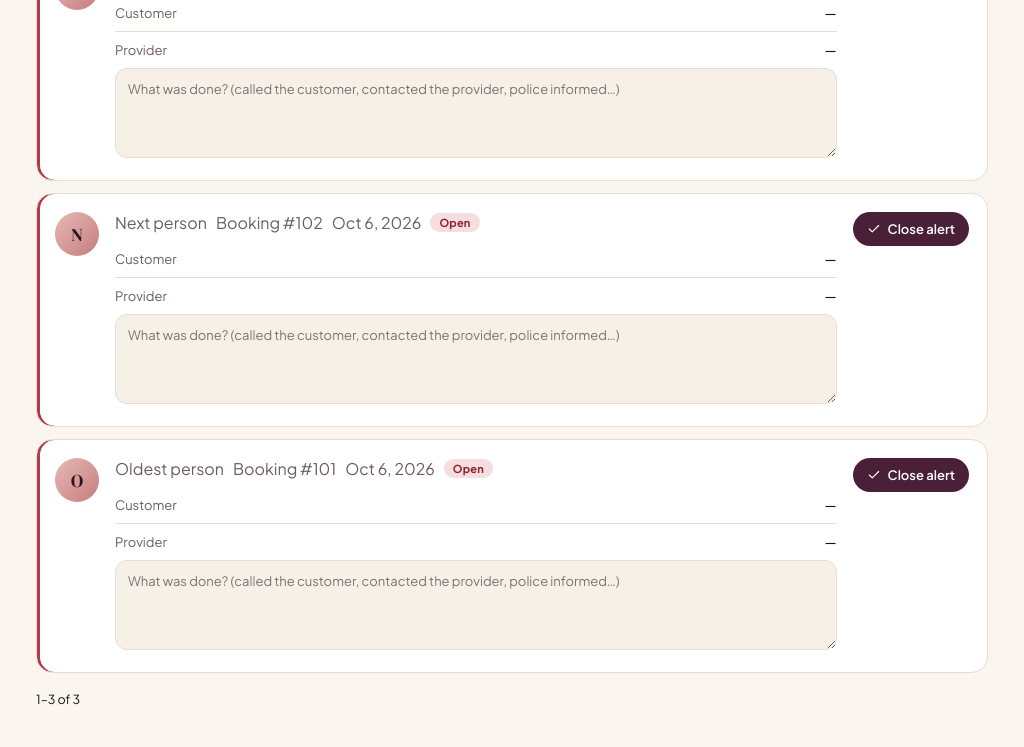
<Safety> - the oldest-open-alert banner (R6-03) › closing the oldest alert removes it from the banner at once and the confirming read names the next oldest
The width and height of the screenshot is (1024, 747).
(page scrolled)
list is newest first: the oldest alert's card is the last one
Replace the text in the 3rd text box with placeholder "What was done" with "called her": (476, 605) [115,560,836,650]
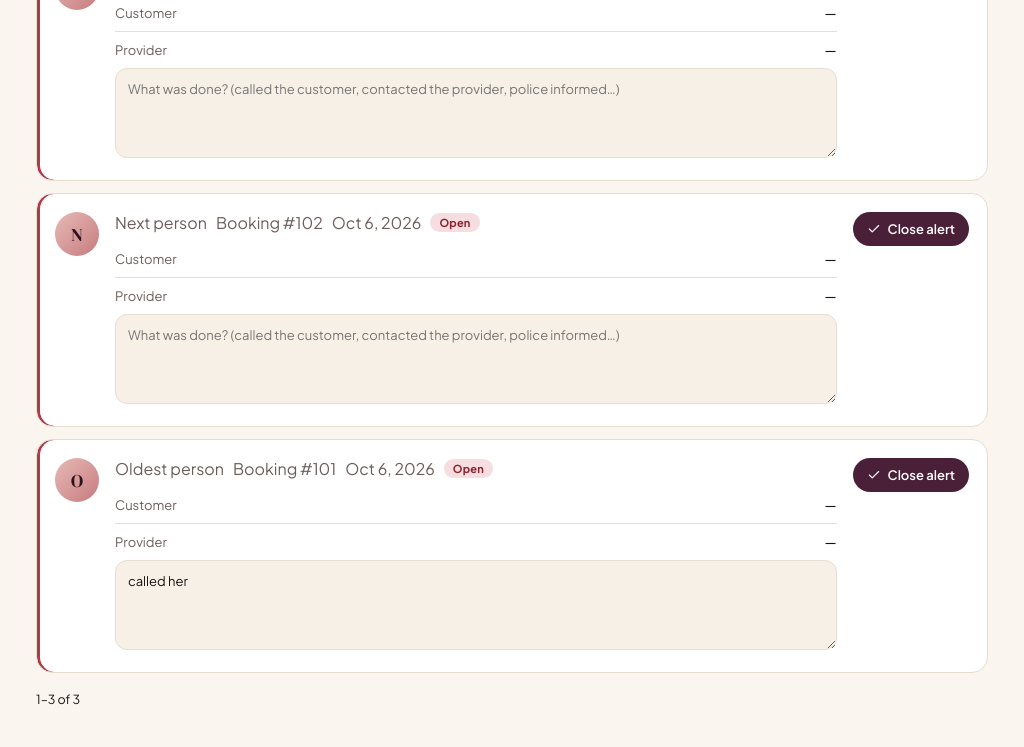
Click the 3rd button "Close alert": (911, 475) [852,458,969,492]
(page scrolled)
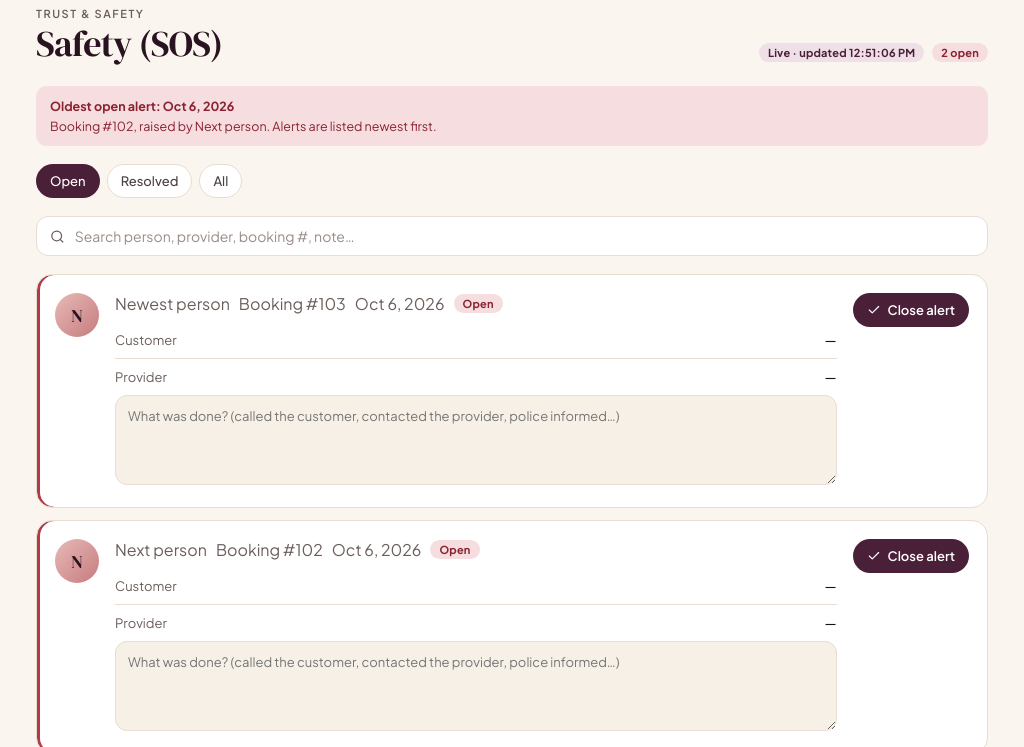
Expected: the text "Booking #102, raised by Next person" is shown, [50,118,436,134]
Expected: the text "2 open" is shown, [932,43,988,62]
